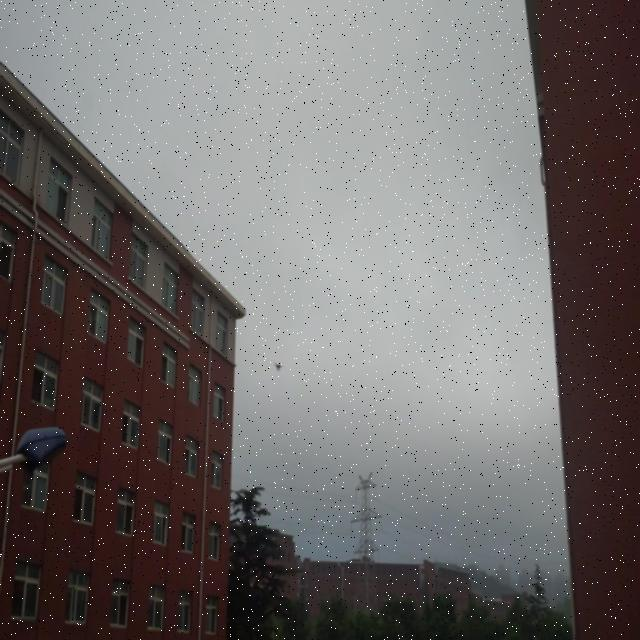UAV: (274, 362, 284, 372)
